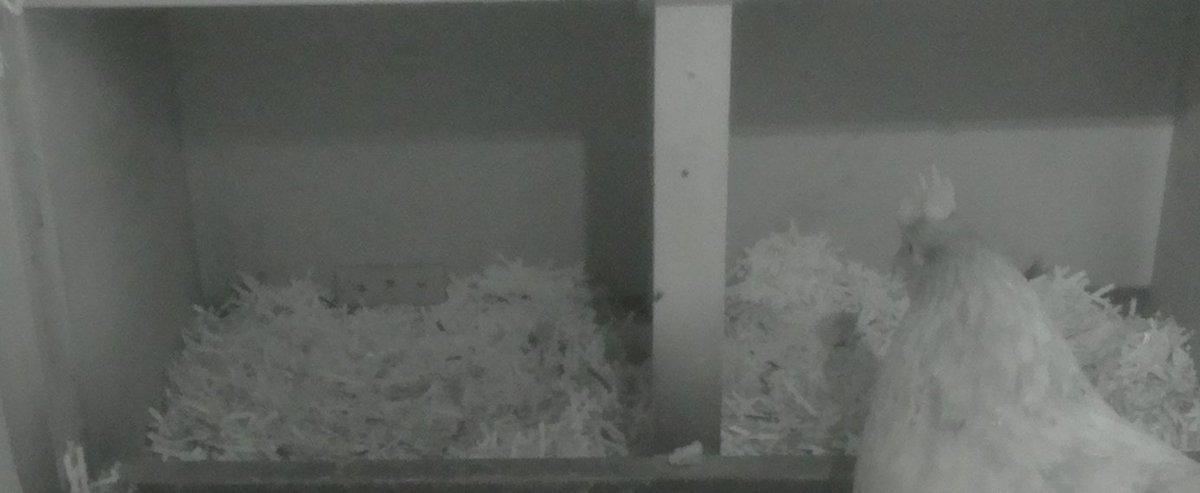hen: (853, 156, 1199, 493)
